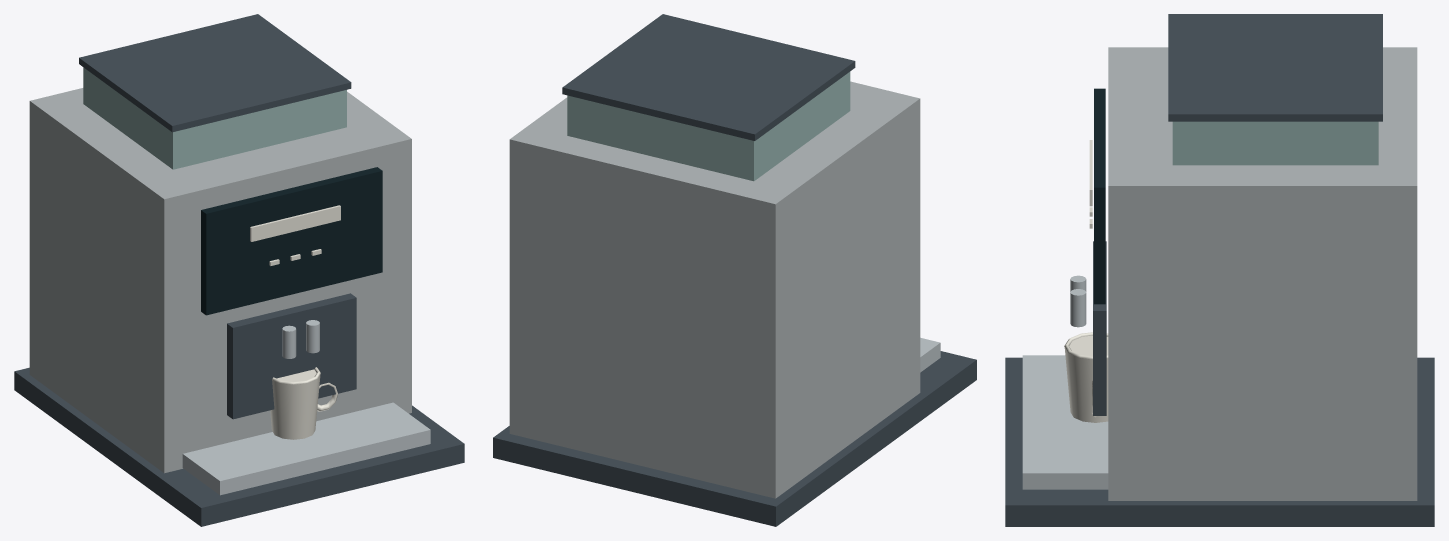
The model's file is coffeeMachine-2.glb.
The picture shows the model from 3 angles, left to right: view 1: azimuth 30°, elevation 25°; view 2: azimuth 150°, elevation 25°; view 3: azimuth 270°, elevation 25°; orthographic projection. The views are drawn at different scales.
Parts seen in each view (by area): view 1: coffeeMachine:2:editor; view 2: coffeeMachine:2:editor; view 3: coffeeMachine:2:editor.
Part boxes in pixels (left/top/right/bottom): coffeeMachine:2:editor: left=14, top=14, right=464, bottom=526; coffeeMachine:2:editor: left=493, top=14, right=976, bottom=526; coffeeMachine:2:editor: left=1005, top=14, right=1434, bottom=526.
Bounding box in the file's own units: 0.35 × 0.43 × 0.43.
